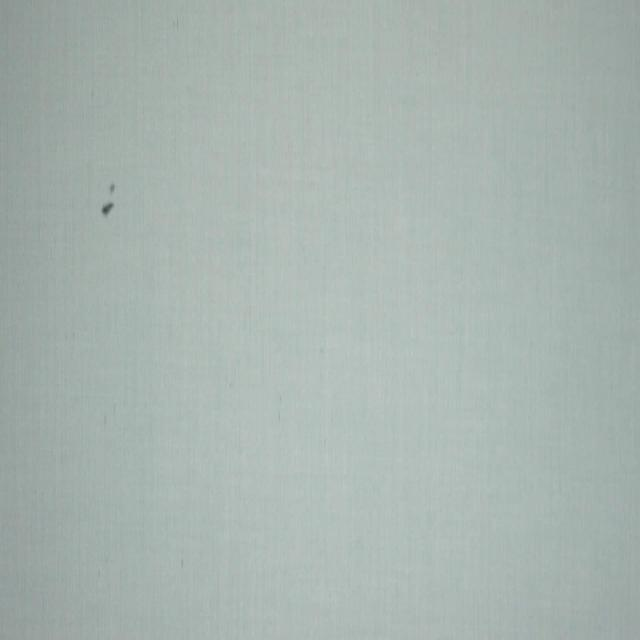dirty: (102, 202, 113, 215), (110, 181, 115, 192)
